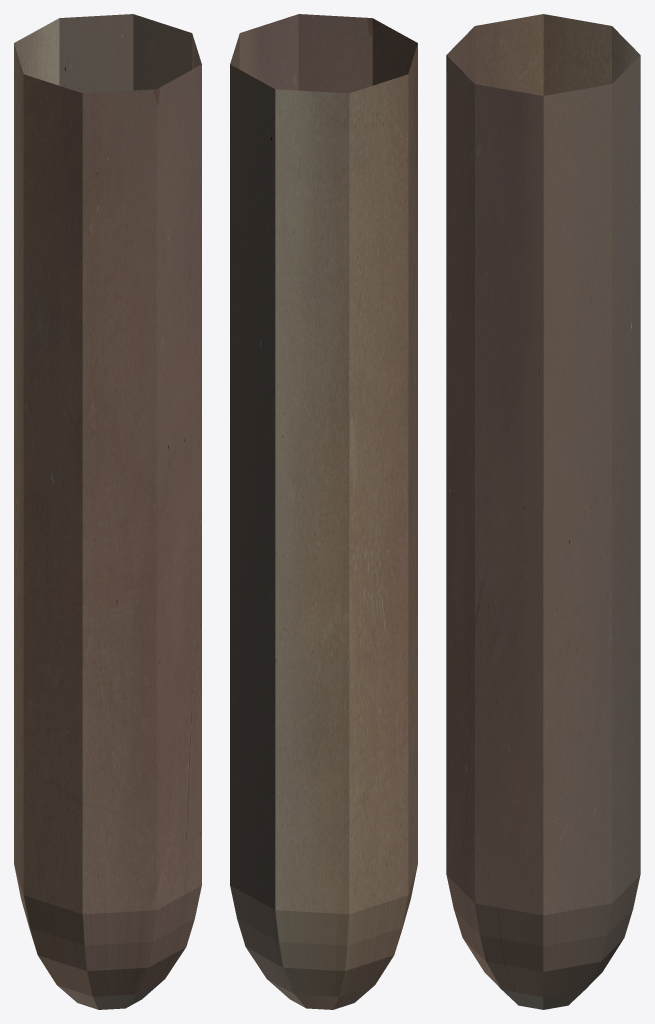
File: matraz.fbx
The picture shows the model from 3 angles, left to right: view 1: azimuth 30°, elevation 25°; view 2: azimuth 150°, elevation 25°; view 3: azimuth 270°, elevation 25°; orthographic projection.
Visible parts, largest first — view 1: Matraz; view 2: Matraz; view 3: Matraz.
Boxes of the visible parts, <box> form: Matraz: <box>14,14,201,1009</box>; Matraz: <box>230,14,417,1009</box>; Matraz: <box>446,14,640,1009</box>.
Size of the model in its own units: 106 by 574 by 106.
